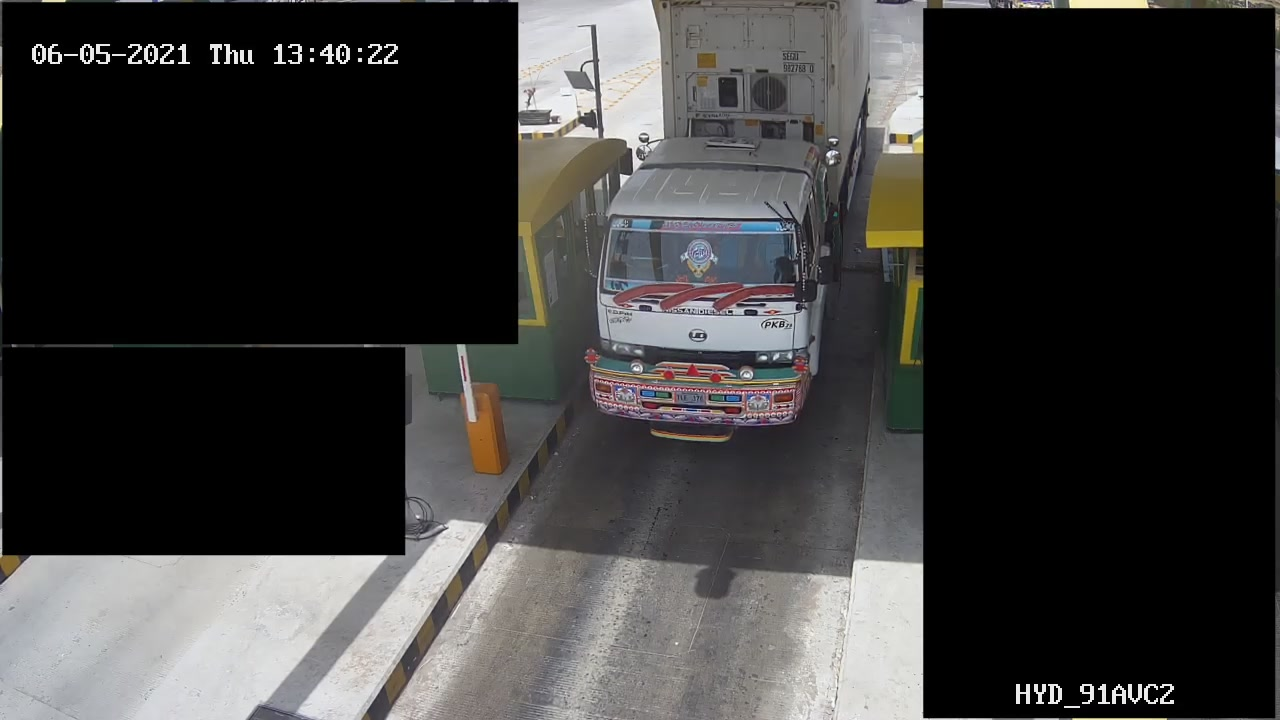F6: (589, 1, 879, 442)
